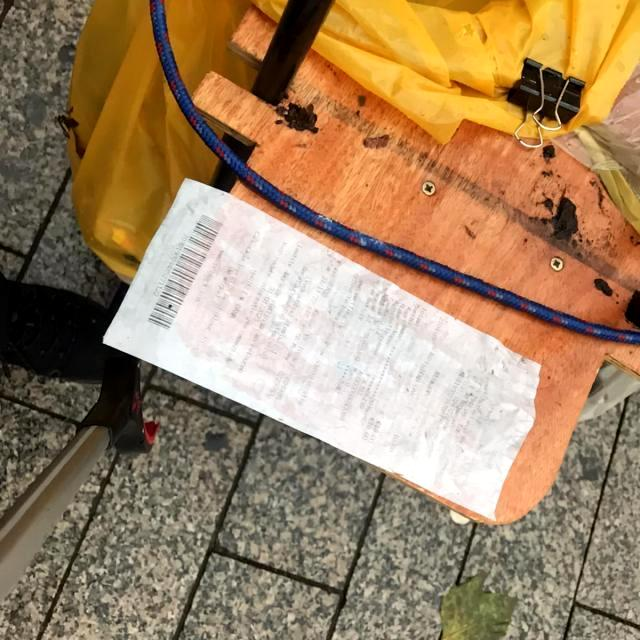Paper: (96, 173, 544, 527)
